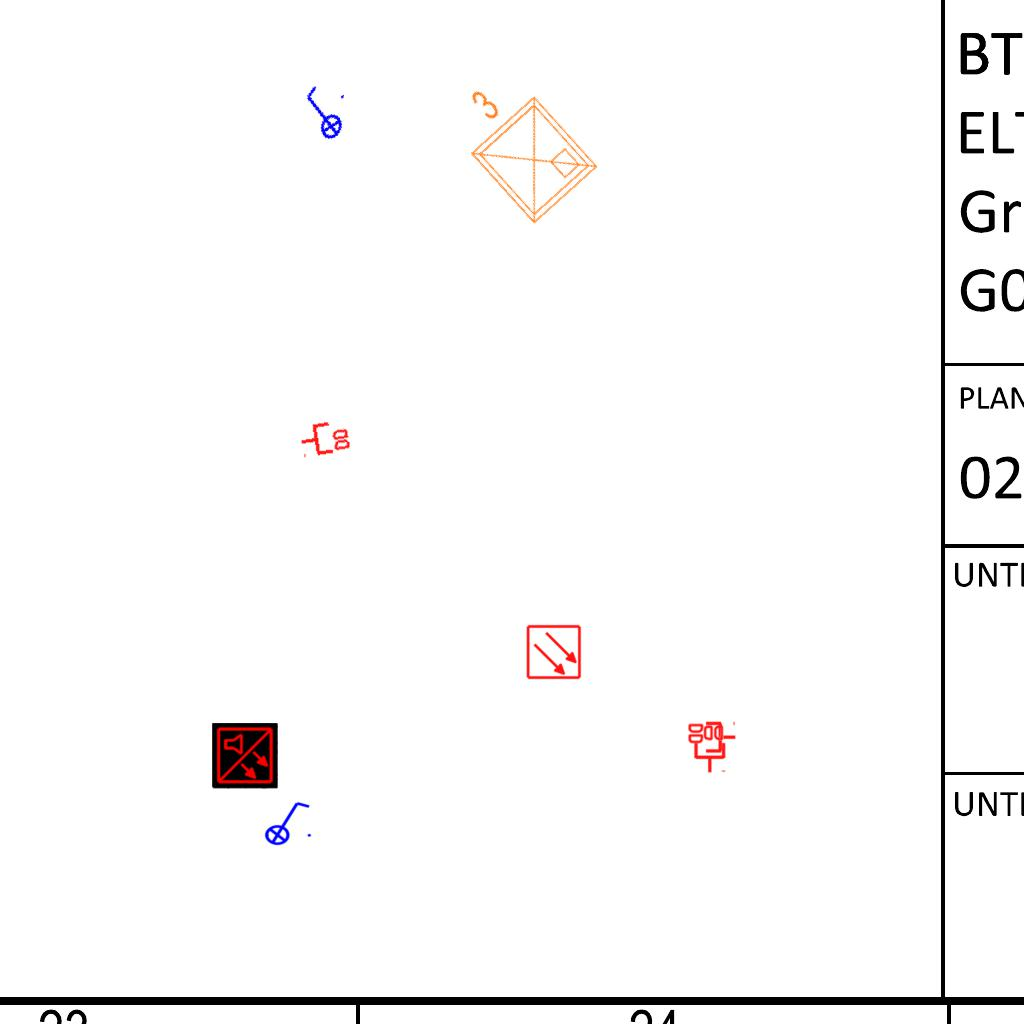Ausschalter_beleuchtet: (289, 79, 355, 149), (258, 798, 314, 846)
Datenanschluss_zweifach: (297, 416, 353, 459), (686, 721, 737, 755), (692, 723, 726, 774)
Einbaudownlights_LED_Konferenzraeume: (430, 55, 608, 237)
OKW_Multisensormelder_(Kombination_optischer_Rauch-Kahlenmonoxid_Waerme-Melder): (212, 723, 278, 789)
RMO_Rauchmelder_optischer: (526, 624, 582, 680)
